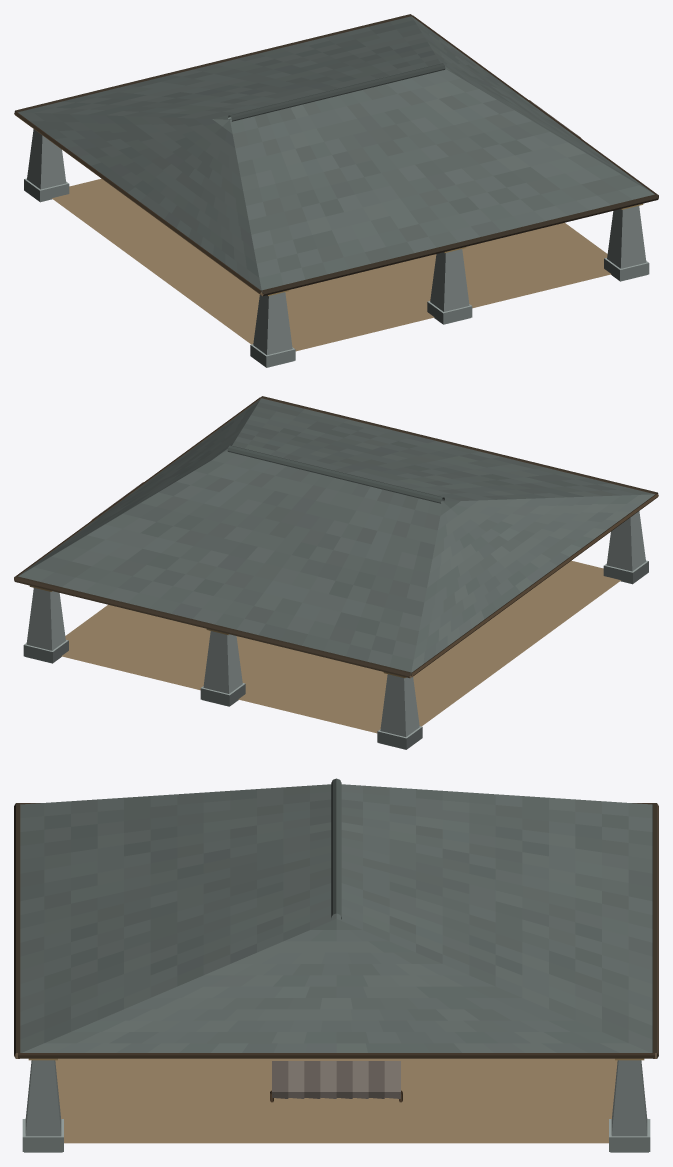
The picture shows the model from 3 angles, top to bottom: view 1: azimuth 30°, elevation 25°; view 2: azimuth 150°, elevation 25°; view 3: azimuth 270°, elevation 25°; orthographic projection. The views are drawn at different scales.
Visible parts, largest first — view 1: 6017353c0b62aaef5cfd4957566c8af25f2d87f9438b340bed4af14b1e88; view 2: 6017353c0b62aaef5cfd4957566c8af25f2d87f9438b340bed4af14b1e88; view 3: 6017353c0b62aaef5cfd4957566c8af25f2d87f9438b340bed4af14b1e88.
Boxes of the visible parts, left/top/right/bottom form: 6017353c0b62aaef5cfd4957566c8af25f2d87f9438b340bed4af14b1e88: left=14, top=14, right=658, bottom=367; 6017353c0b62aaef5cfd4957566c8af25f2d87f9438b340bed4af14b1e88: left=14, top=396, right=658, bottom=749; 6017353c0b62aaef5cfd4957566c8af25f2d87f9438b340bed4af14b1e88: left=14, top=778, right=658, bottom=1152.
Size of the model in its own units: 13.63 by 4.46 by 14.02.
Materials: 7 (1 with a texture image).
